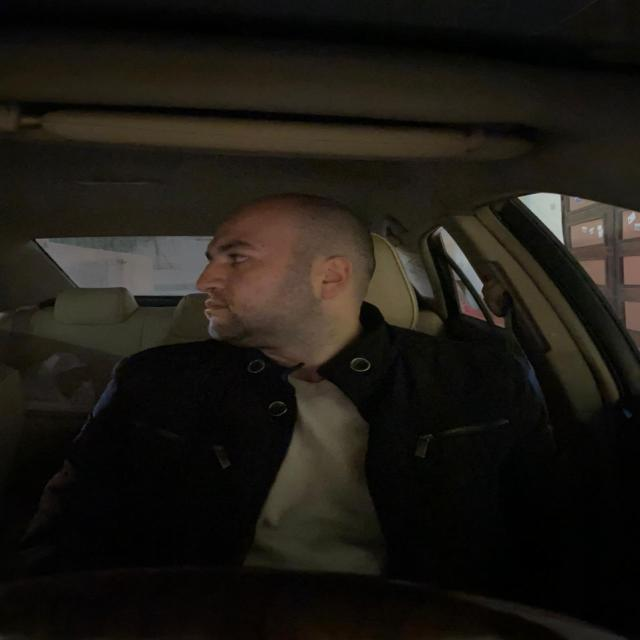LeftRight: (186, 188, 368, 369)
